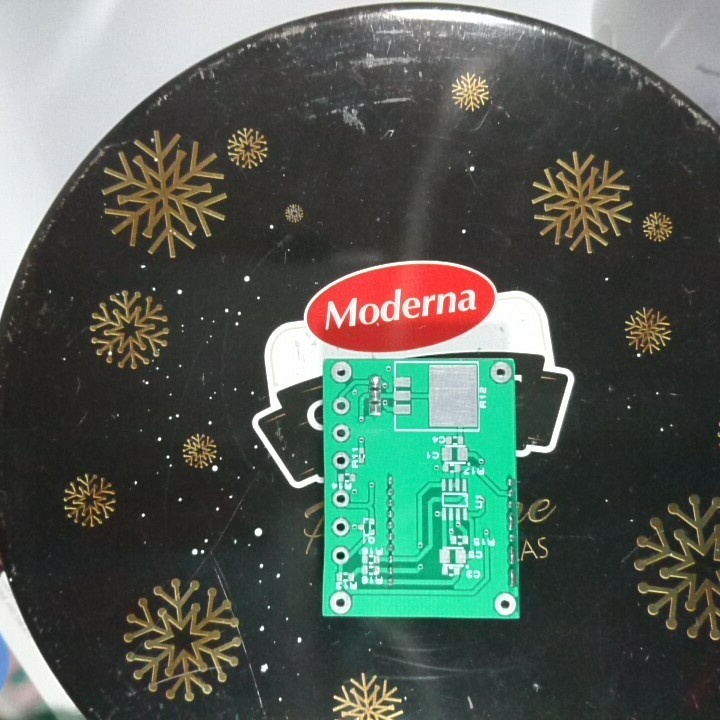F: (488, 360, 515, 386), (492, 593, 518, 618), (328, 359, 354, 383), (328, 591, 354, 615), (330, 421, 354, 444), (329, 488, 351, 510), (330, 516, 351, 538), (331, 395, 351, 418), (330, 545, 351, 566), (331, 449, 351, 471)
P: (505, 567, 517, 592), (504, 512, 517, 535), (505, 543, 517, 567)
